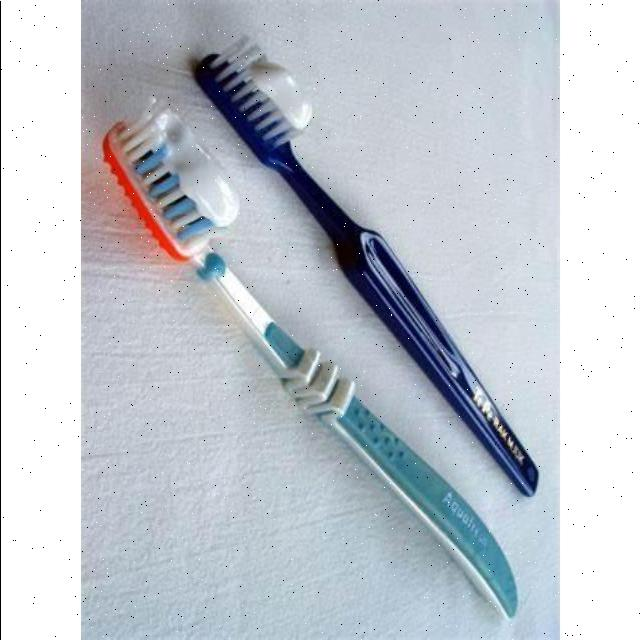toothbrush: (80, 104, 256, 308)
